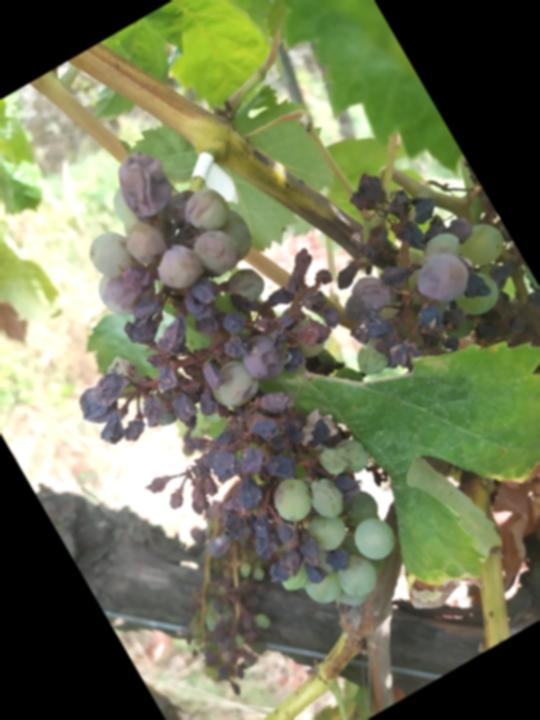grape: (0, 113, 446, 684), (281, 126, 540, 563)
